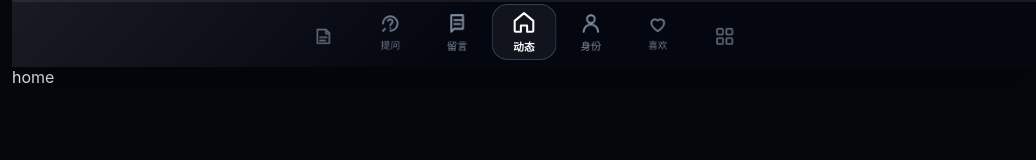
Test: app context tests › should switch mobile nav by tapping a captured tab
Press the mouse on the button with test id "nav-profile": (591, 32) [560,6,621,58]
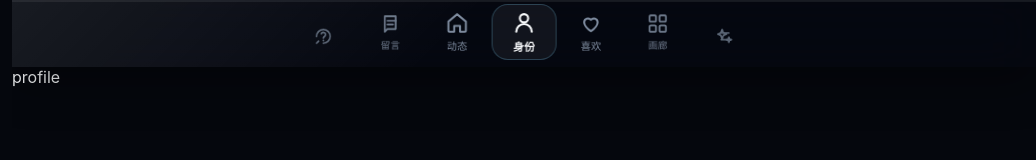
Now the text with test id "active-view" reads "profile", box [12,67,60,87]
